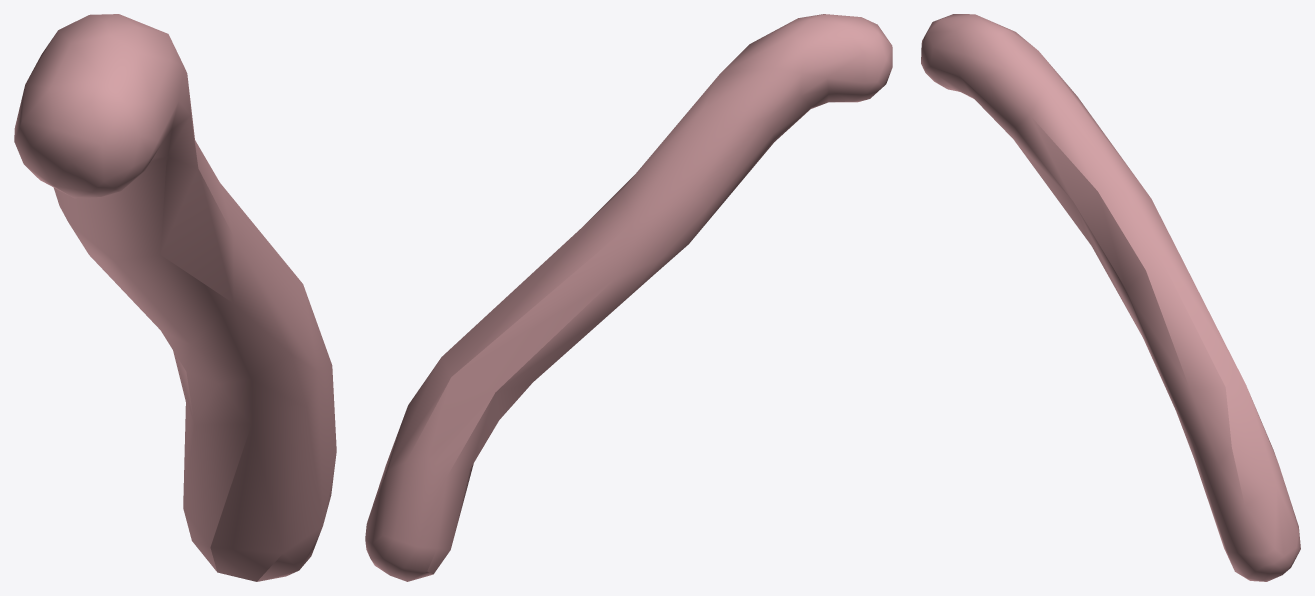
The model's file is fma14539_fj3080.glb.
The picture shows the model from 3 angles, left to right: view 1: azimuth 30°, elevation 25°; view 2: azimuth 150°, elevation 25°; view 3: azimuth 270°, elevation 25°; orthographic projection. The views are drawn at different scales.
Parts seen in each view (by area): view 1: FMA14539_FJ3080; view 2: FMA14539_FJ3080; view 3: FMA14539_FJ3080.
Part boxes in pixels (box(x1,y1,x2,y2)): FMA14539_FJ3080: box(14, 14, 336, 581); FMA14539_FJ3080: box(365, 14, 892, 581); FMA14539_FJ3080: box(921, 14, 1300, 581).
Size of the model in its own units: 0.00878 by 0.0122 by 0.00934.
